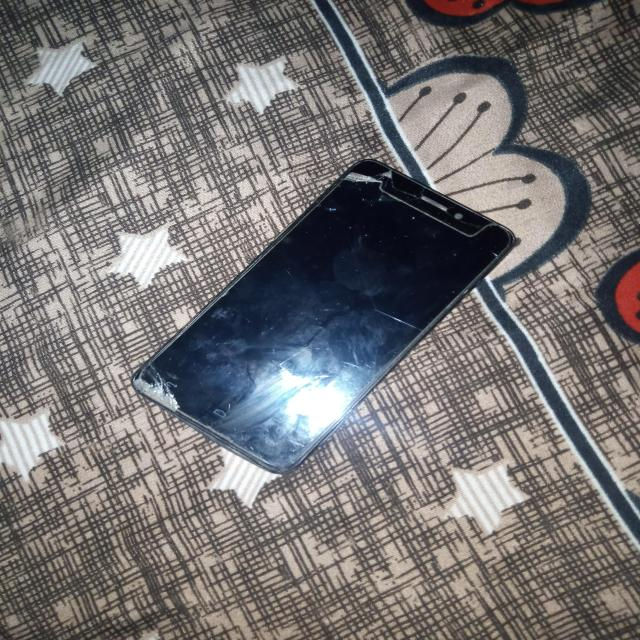mobile: (70, 145, 580, 504)
